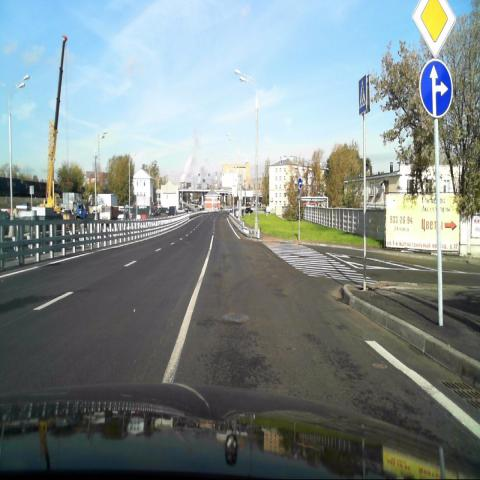2_1: (412, 0, 456, 56)
4_1_4: (419, 58, 453, 120)
5_19_1: (358, 78, 370, 117)
